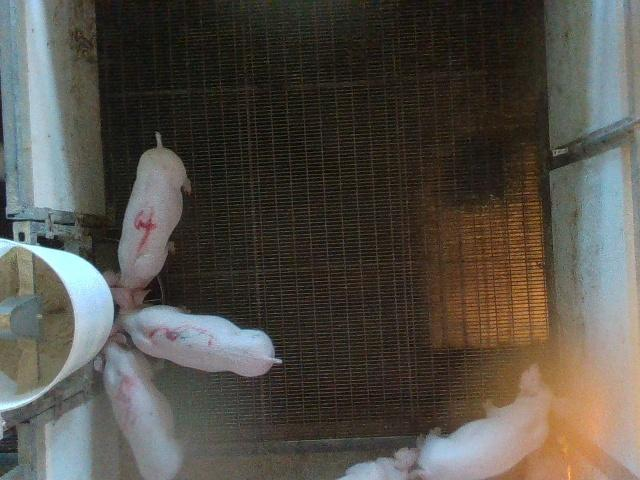pig-3: (111, 289, 281, 376)
pig-4: (104, 132, 191, 297)
pig-5: (104, 334, 182, 478)
